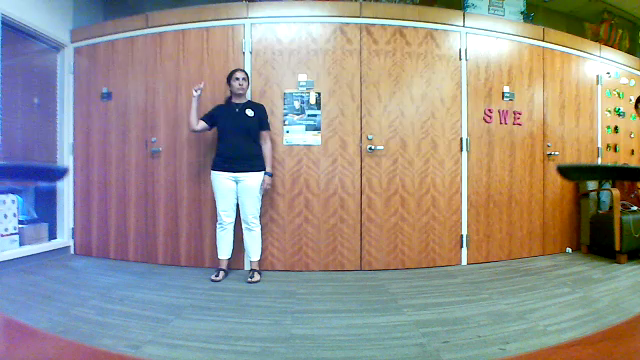up: (187, 75, 206, 101)
